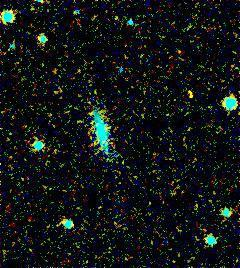star: (173, 75, 203, 105)
